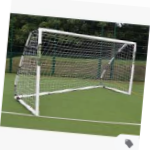goals: (14, 25, 137, 119)
